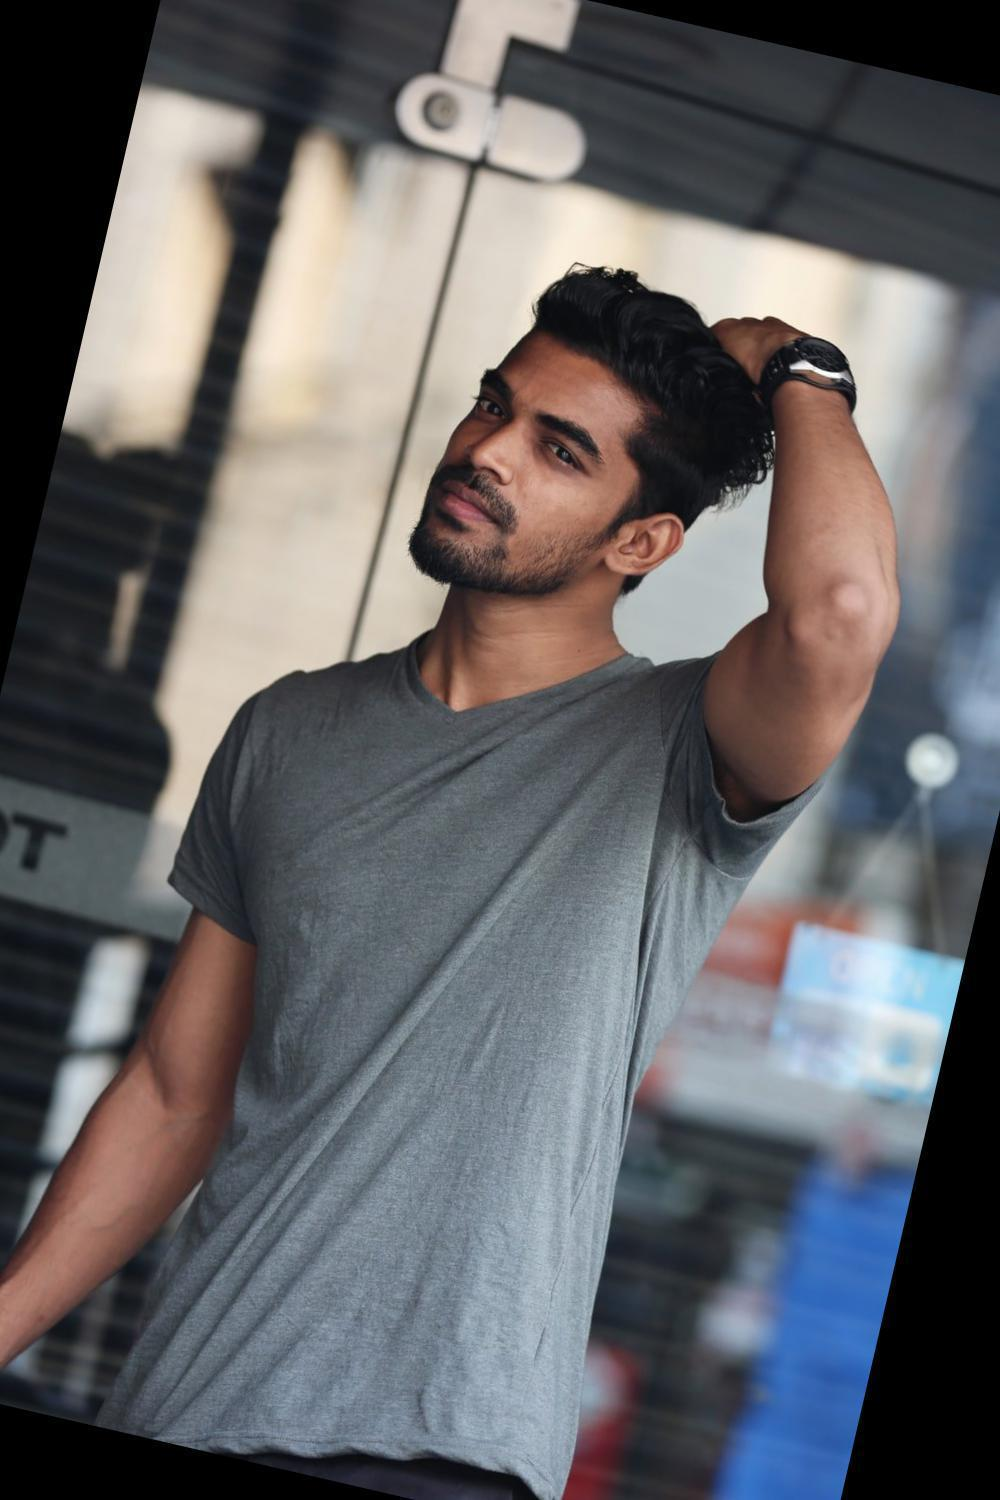Sober: (427, 344, 643, 593)
